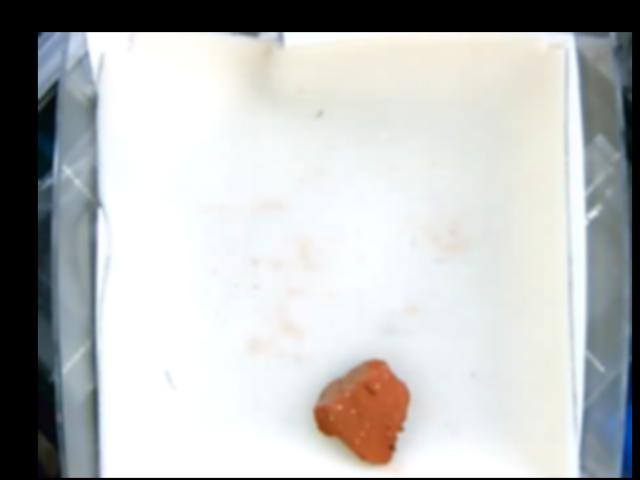Brisk: (314, 358, 411, 465)
